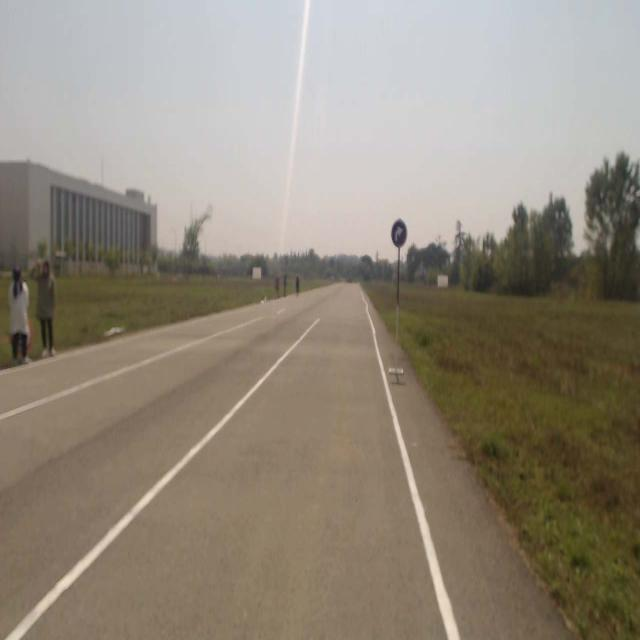sag: (392, 220, 406, 244)
